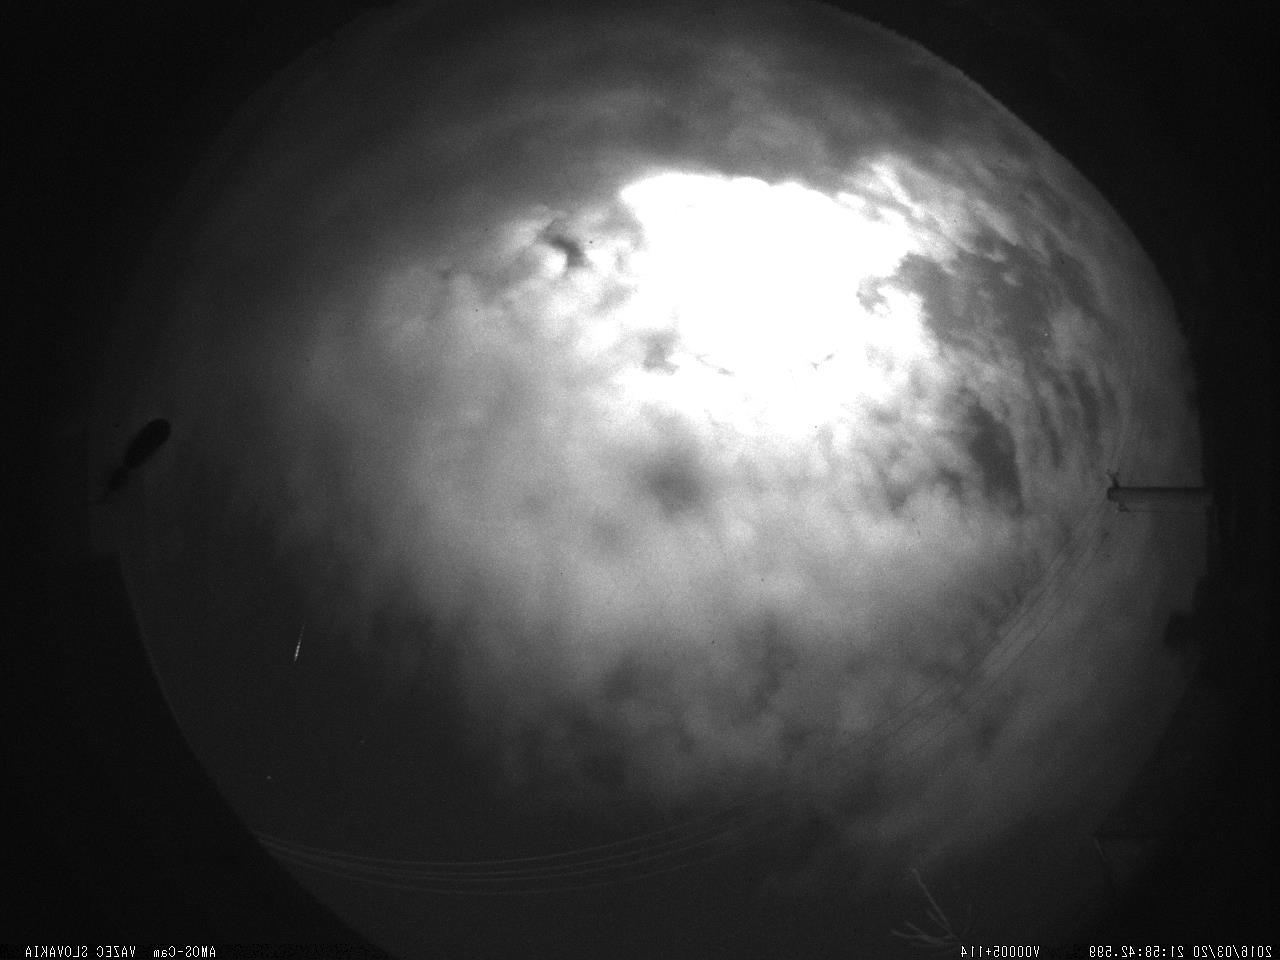meteor: (283, 616, 313, 672)
